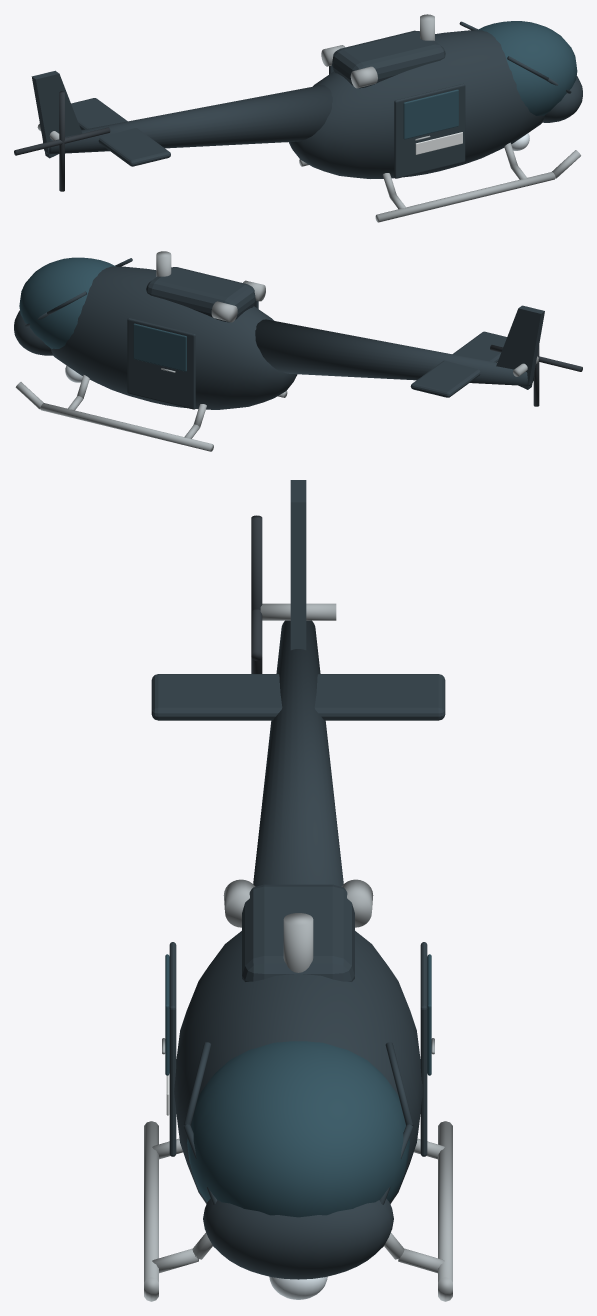
File: SM_PoliceHelicopter.fbx
3 views of the same model, one above another, from view 1: azimuth 30°, elevation 25°; view 2: azimuth 150°, elevation 25°; view 3: azimuth 270°, elevation 25° (orthographic). The views are drawn at different scales.
Parts seen in each view (by area): view 1: SM_PoliceHelicopter; view 2: SM_PoliceHelicopter; view 3: SM_PoliceHelicopter.
Boxes of the visible parts, box(x1,y1,x2,y2) form: SM_PoliceHelicopter: box(14, 14, 582, 222); SM_PoliceHelicopter: box(14, 251, 582, 451); SM_PoliceHelicopter: box(144, 480, 452, 1301).
Size of the model in its own units: 1036 by 252 by 332.
